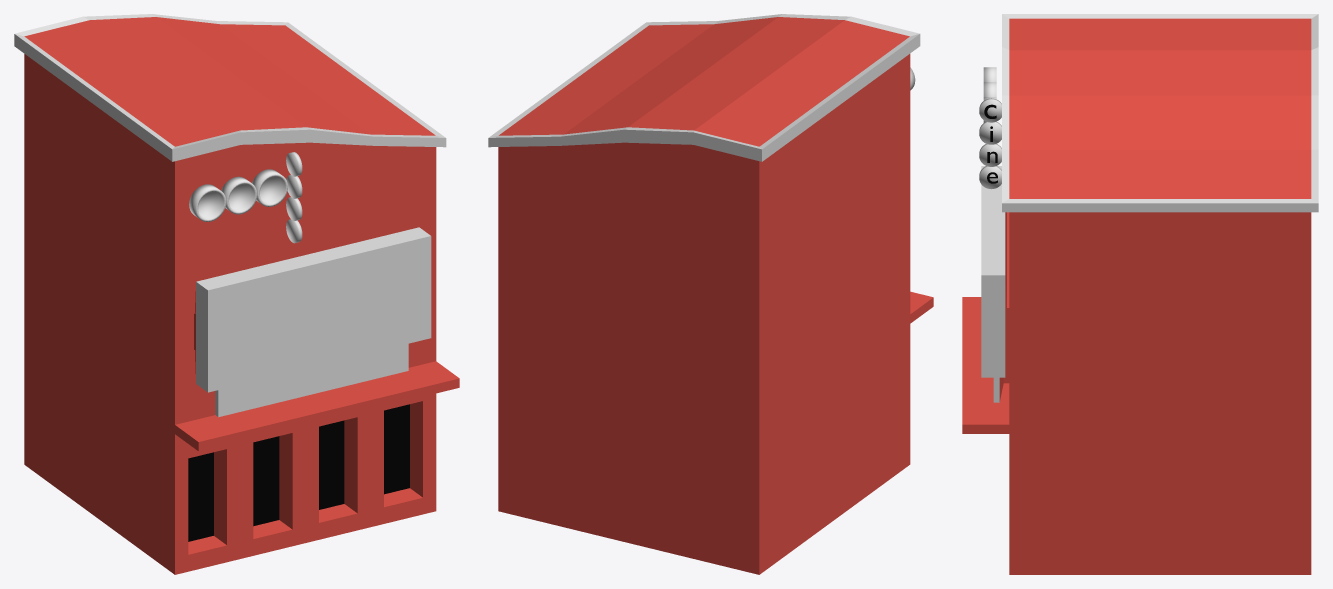
The model's file is Cinema.fbx.
The picture shows the model from 3 angles, left to right: view 1: azimuth 30°, elevation 25°; view 2: azimuth 150°, elevation 25°; view 3: azimuth 270°, elevation 25°; orthographic projection.
Visible parts, largest first — view 1: Cube; view 2: Cube; view 3: Cube.
Part boxes in pixels (x1=…): Cube: x1=14, y1=14, x2=459, y2=574; Cube: x1=488, y1=14, x2=933, y2=574; Cube: x1=962, y1=14, x2=1318, y2=574.
Bounding box in the file's own units: 367 × 551 × 413.
